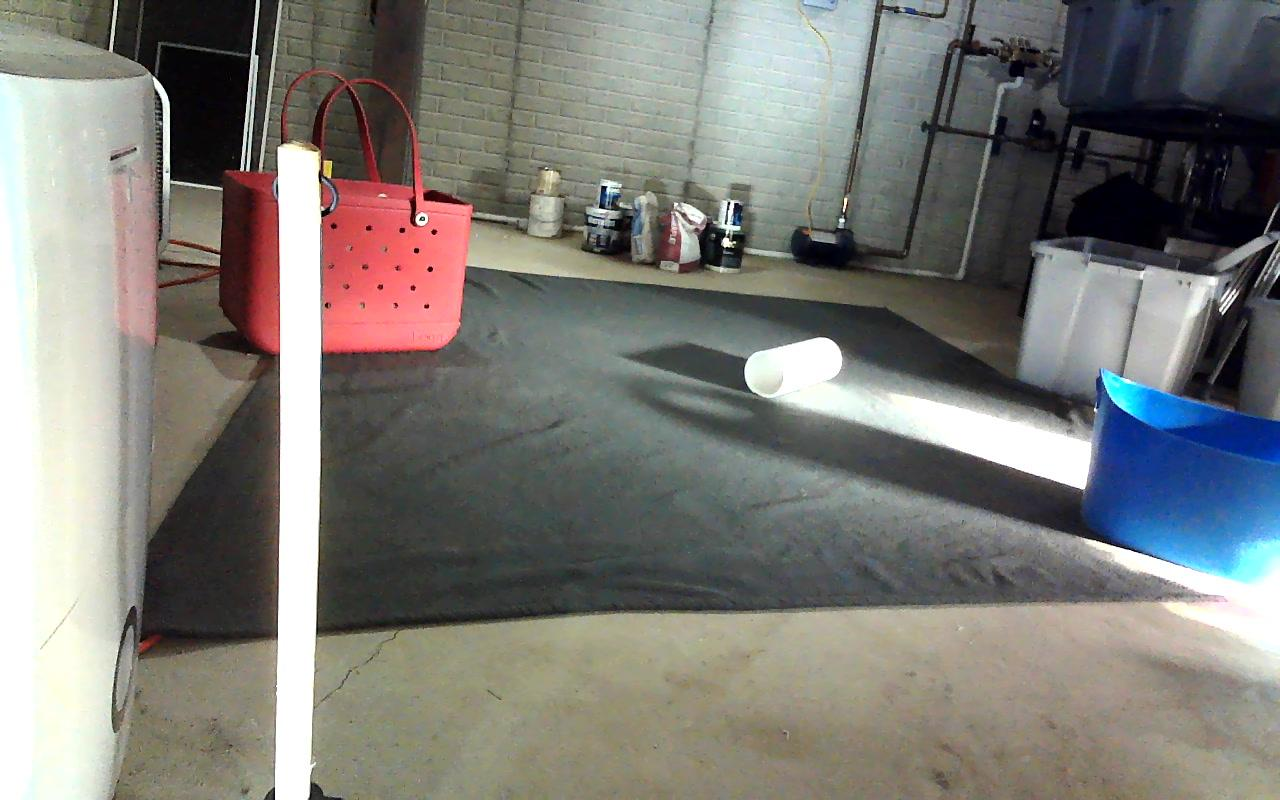coral: (744, 339, 841, 397)
